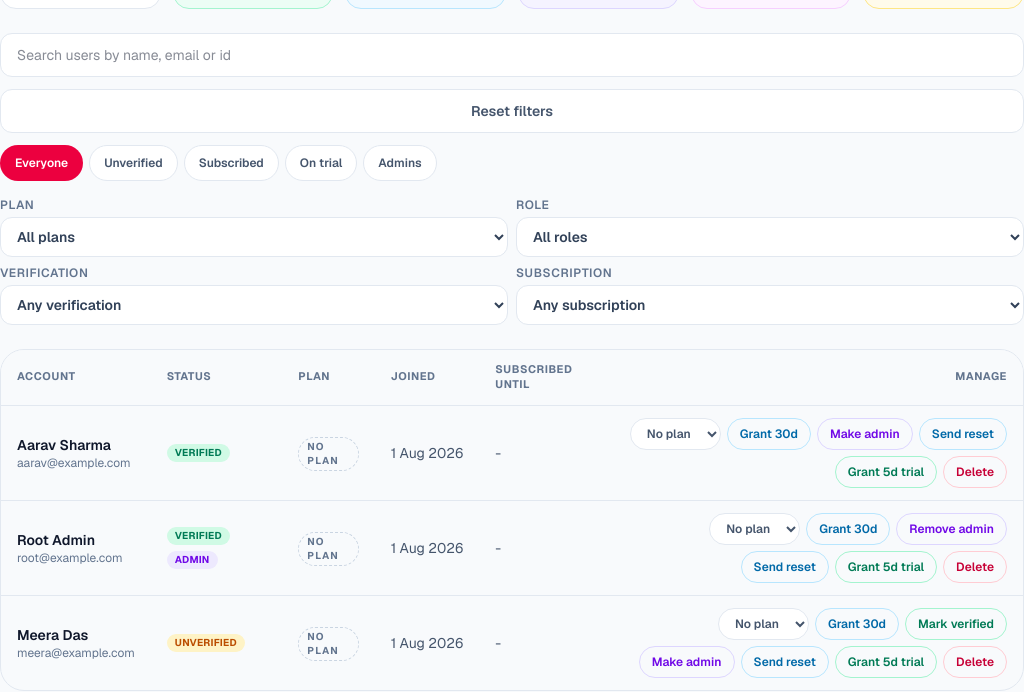
Test: AdminUsers › lets the super admin approve a 5-day free trial
Expected: the table is shown, [1,350,1023,690]
Click the button "Grant 5d trial" in the row of "meera@example.com" at (886, 662), box [835,646,937,678]
(page scrolled)
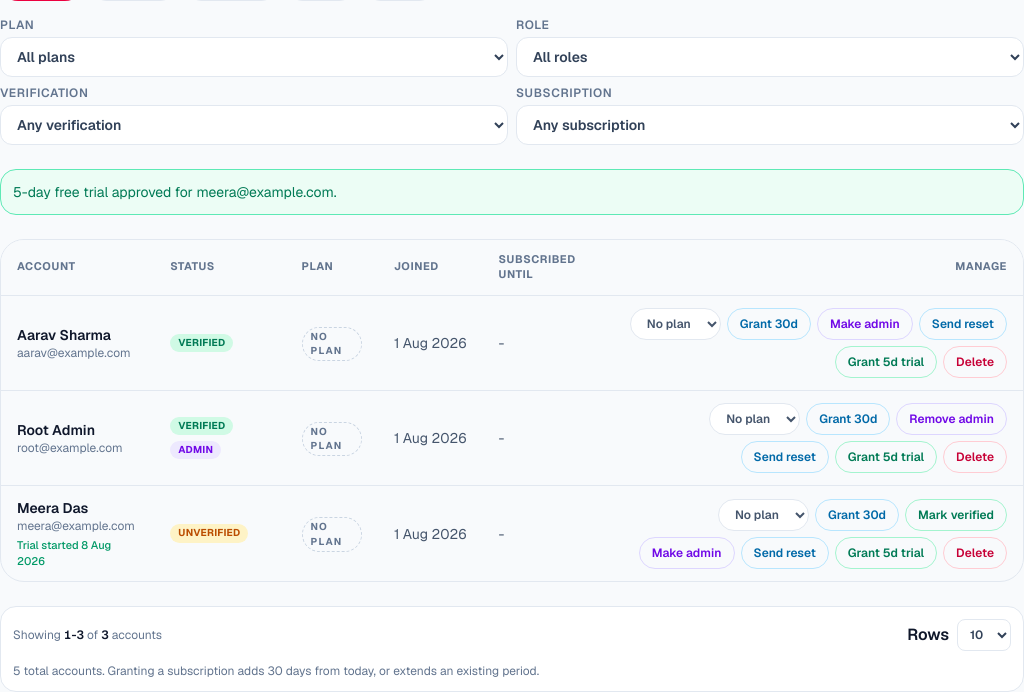
Result: the text "5-day free trial approved for meera@example.com." is shown at [0,168,1023,214]
Result: the text "Trial started 8 Aug 2026" is shown at [17,538,111,568]
